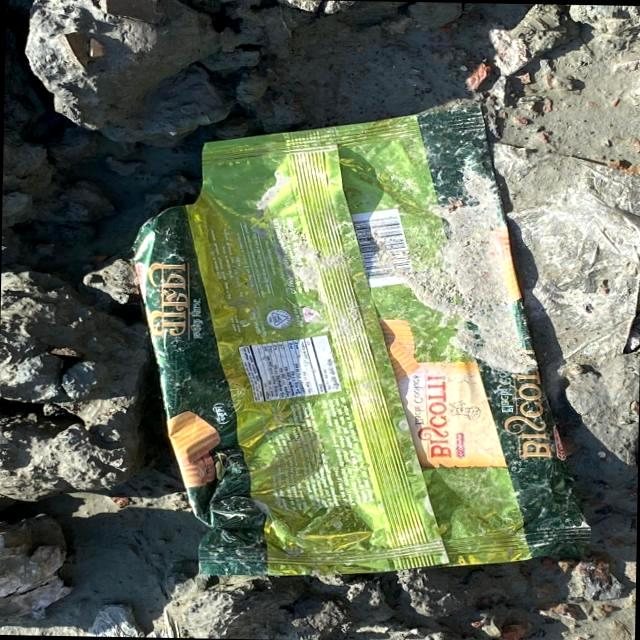packet: (157, 108, 551, 585)
